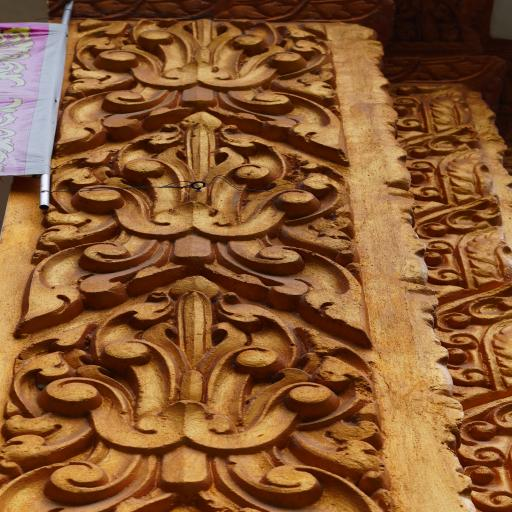la: (0, 270, 406, 512), (0, 113, 395, 344), (48, 14, 357, 176), (402, 218, 512, 318), (401, 140, 507, 232), (422, 302, 512, 394), (380, 78, 480, 160), (449, 385, 512, 512)
